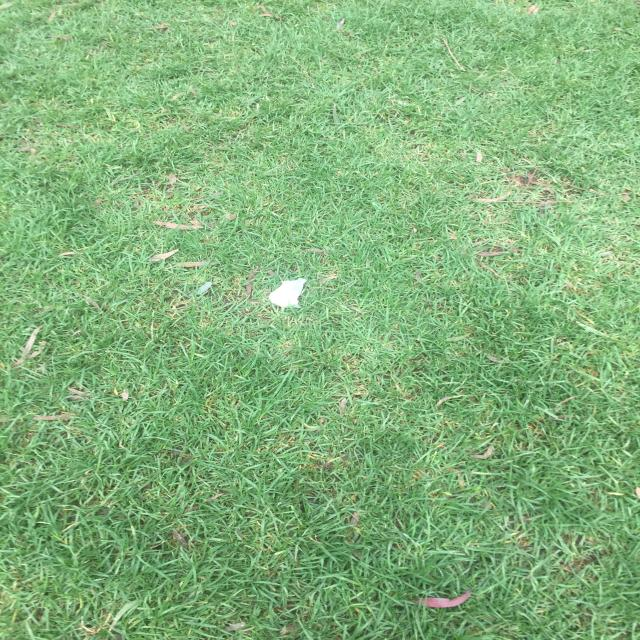litter: (269, 278, 307, 307)
